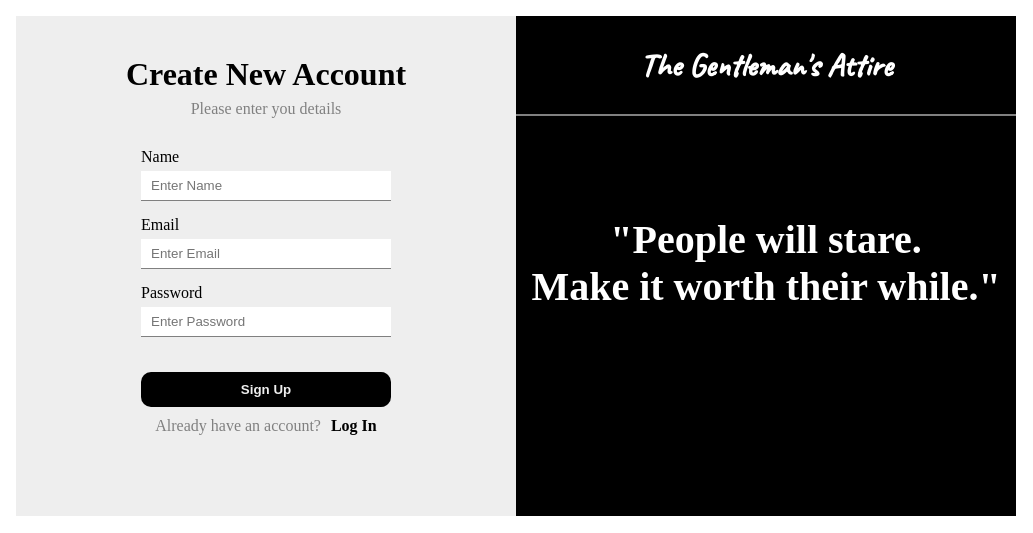
Test case: Login Page › If any field is empty than error should display
The width and height of the screenshot is (1033, 533).
Step 1. Type "test" into the field labelled "Name" → (266, 186), box [141,171,391,201]
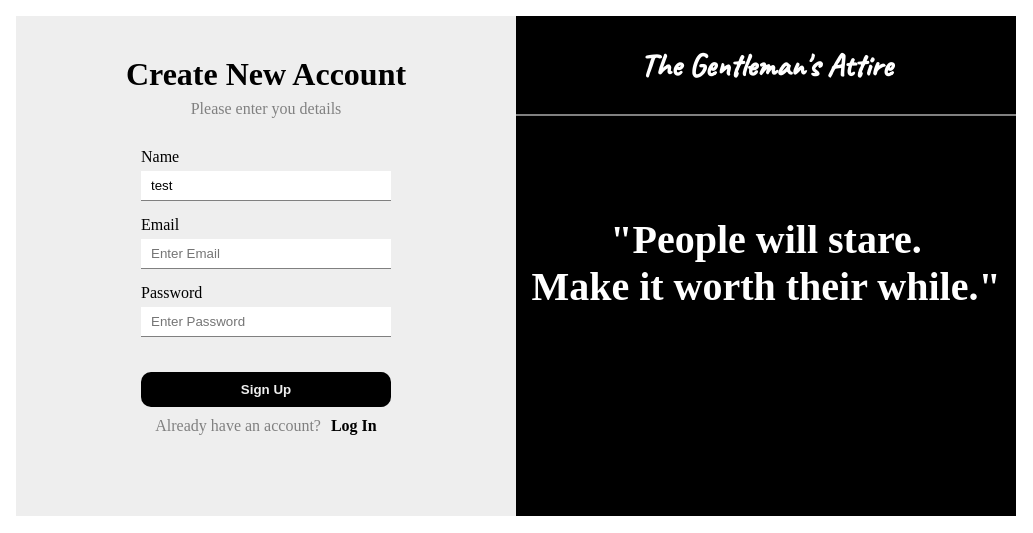
Step 2. Type "test@gmail.com" into the field labelled "Email" → (266, 254), box [141,239,391,269]
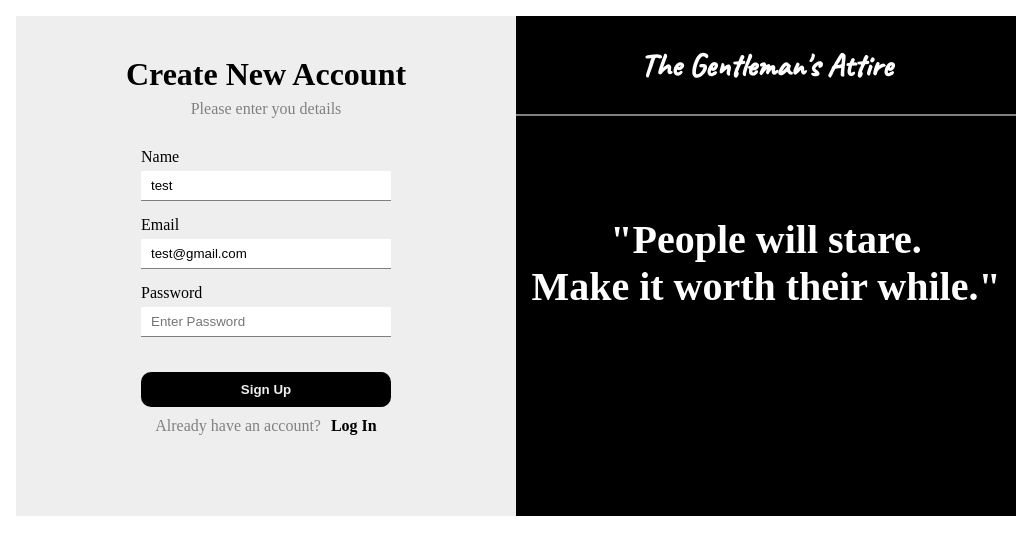
Step 3. Click the button "Sign Up" → (266, 390), box [141,372,391,407]
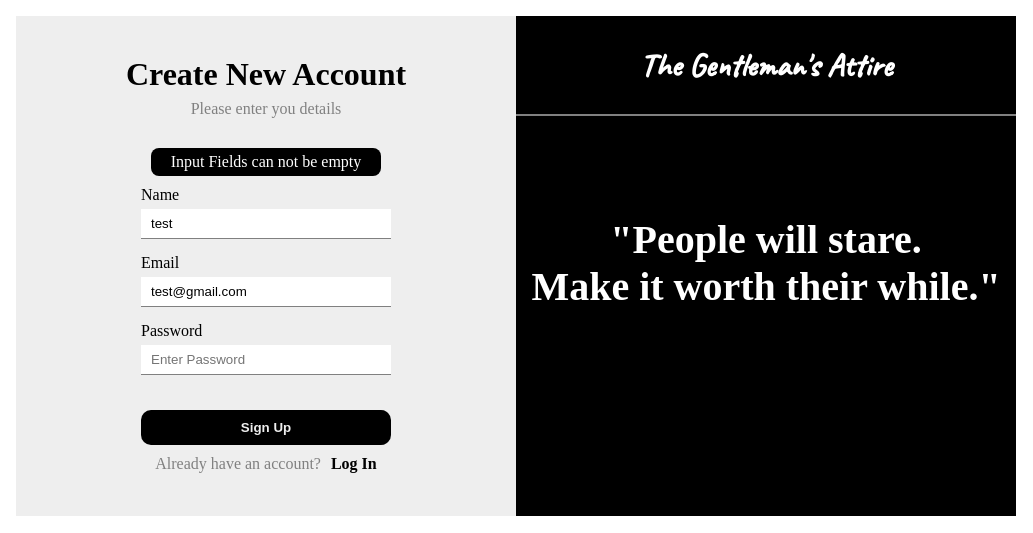
Result: the text "Input Fields can not be empty" is shown at [151,148,381,176]
